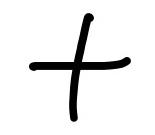plus: (30, 13, 131, 122)
